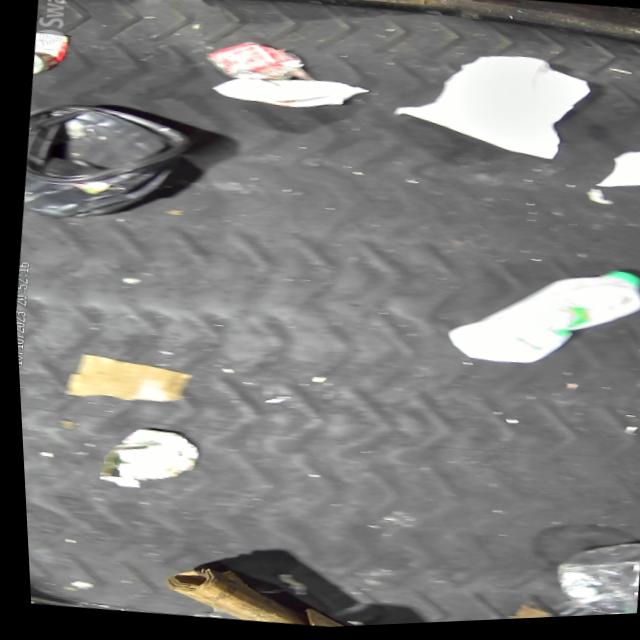can: (29, 31, 70, 80)
milk_jug: (438, 254, 640, 385)
non_white_jug: (15, 93, 198, 233)
plastic_bottle: (538, 537, 637, 622)
